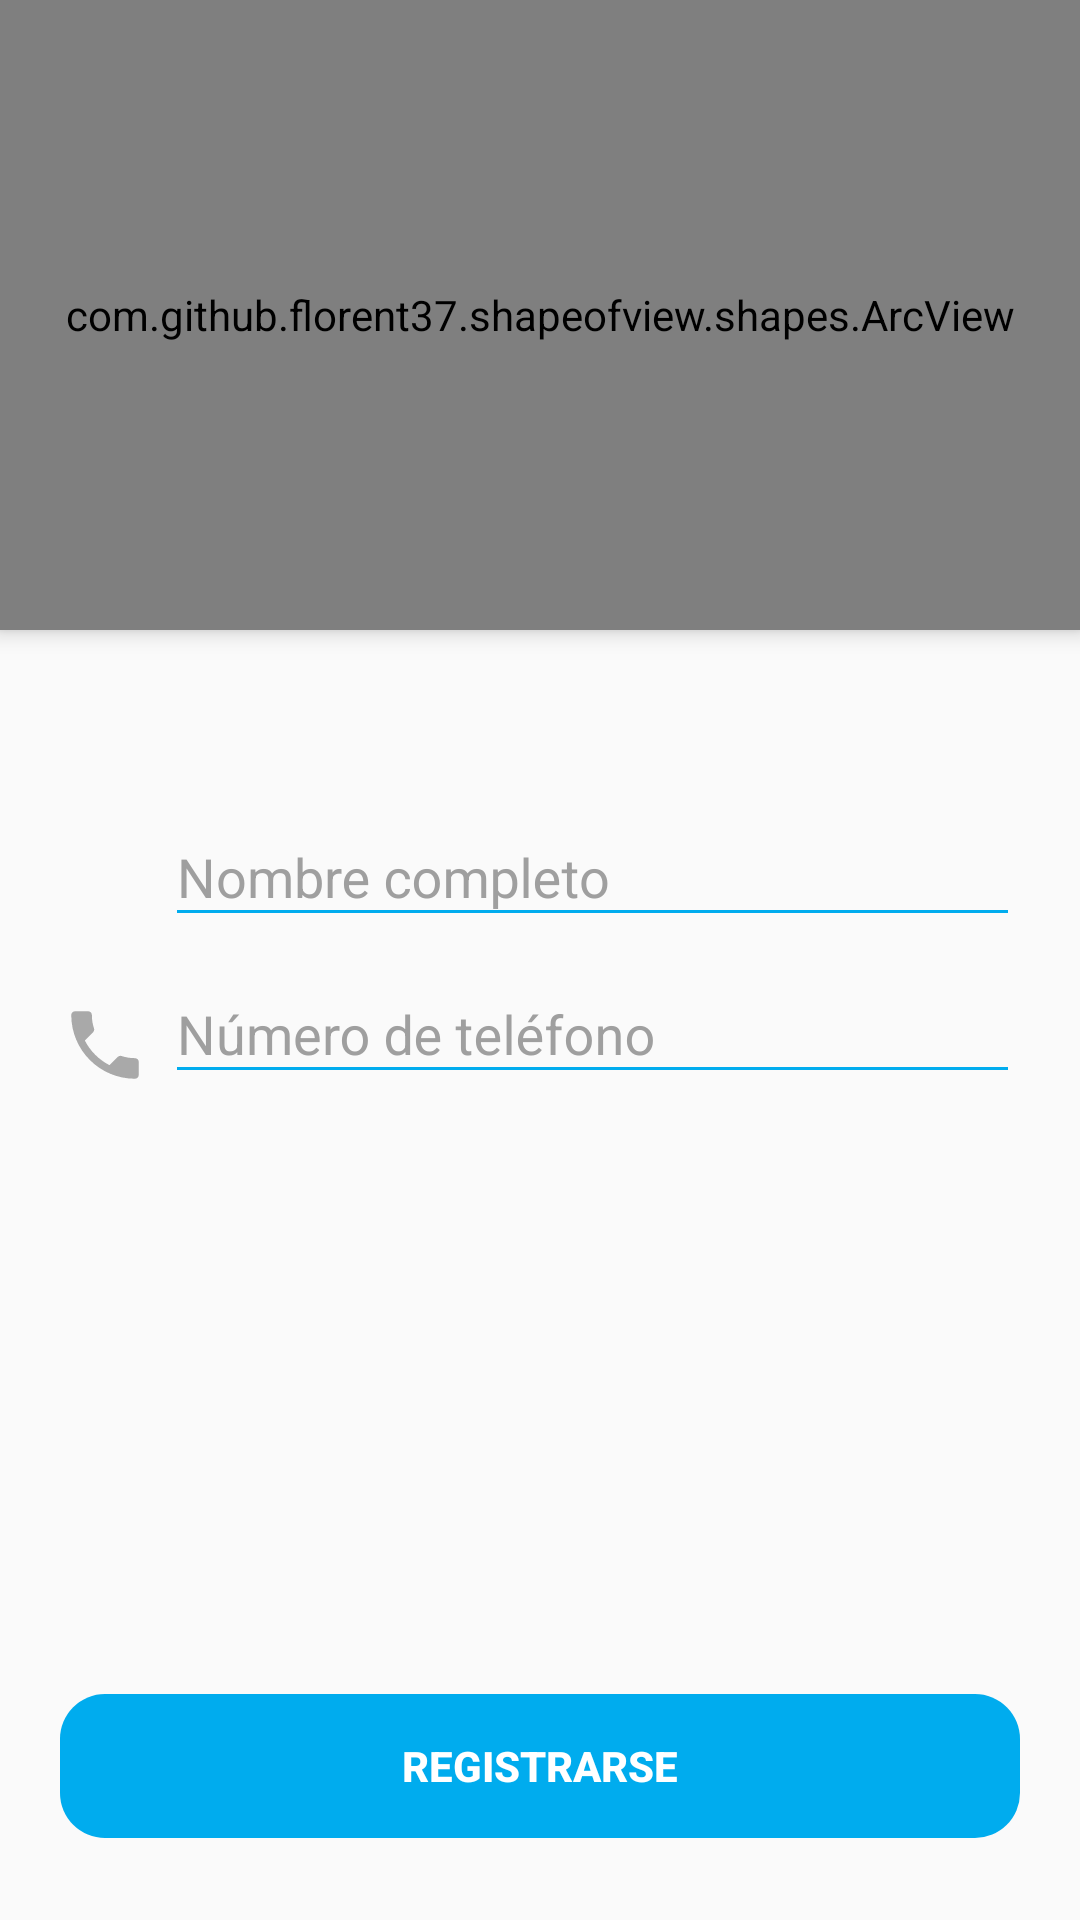

Named icons in this screenshot (1080 × 1920) and their bounding boxes, (x1, y1, x2, y2):
phone: (71, 1011, 139, 1079)
